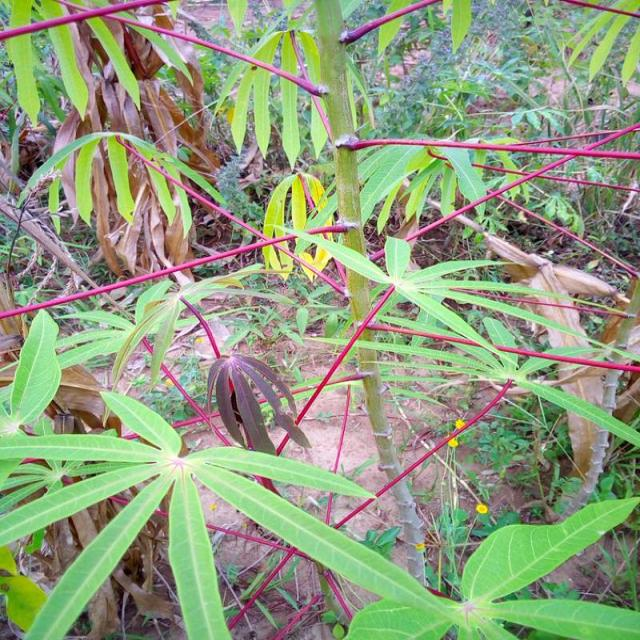cassava leaf: (460, 494, 638, 605)
